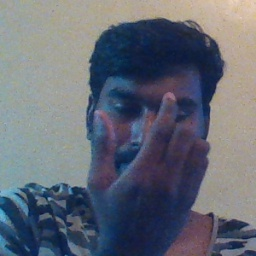U: (86, 89, 214, 237)
